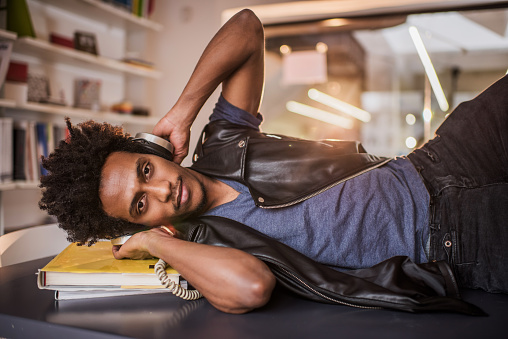deitado: (65, 119, 507, 317)
